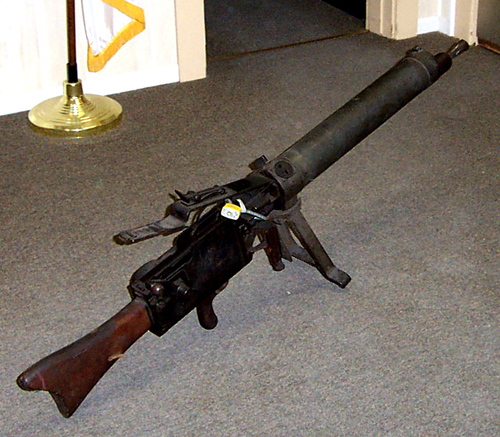rifle: (29, 32, 464, 425)
